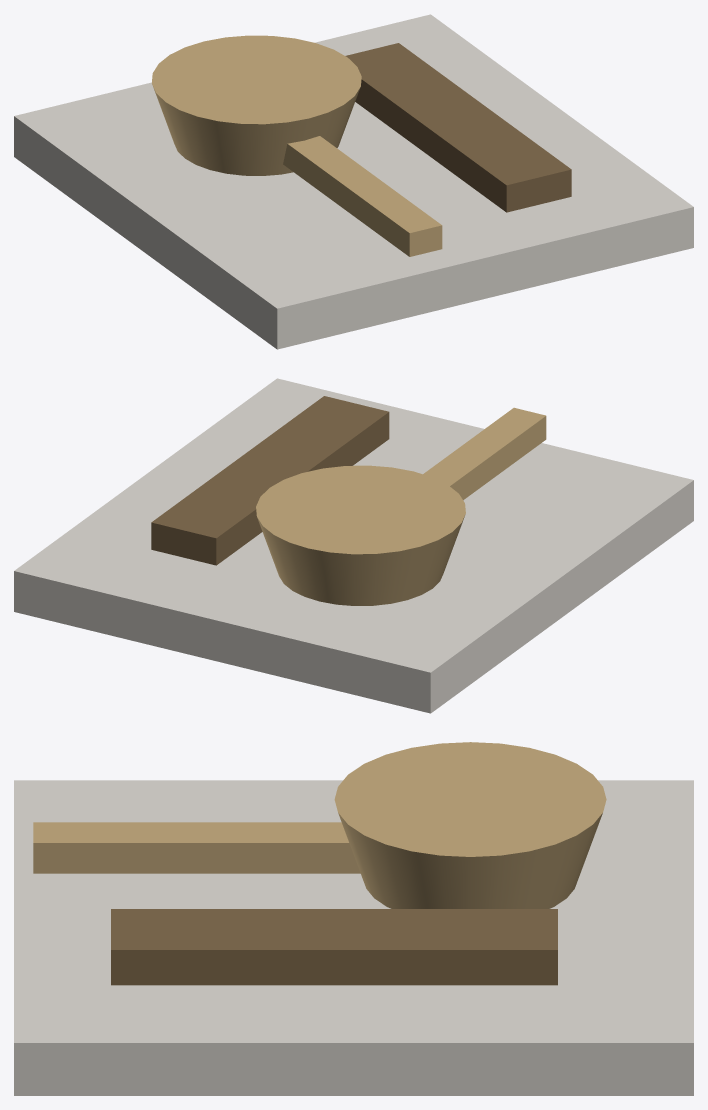
The model's file is SV_MP_SKU_09_v01.glb.
The picture shows the model from 3 angles, top to bottom: view 1: azimuth 30°, elevation 25°; view 2: azimuth 150°, elevation 25°; view 3: azimuth 270°, elevation 25°; orthographic projection. The views are drawn at different scales.
Parts seen in each view (by area): view 1: mproto_SV_MP_SKU_09_v01; view 2: mproto_SV_MP_SKU_09_v01; view 3: mproto_SV_MP_SKU_09_v01.
Boxes of the visible parts, left/top/right/bottom form: mproto_SV_MP_SKU_09_v01: left=14, top=14, right=693, bottom=349; mproto_SV_MP_SKU_09_v01: left=14, top=378, right=693, bottom=713; mproto_SV_MP_SKU_09_v01: left=14, top=742, right=693, bottom=1095.
Bounding box in the file's own units: 0.064 × 0.015 × 0.07.
